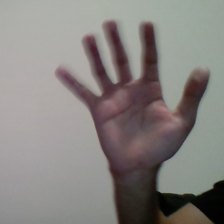left: (53, 15, 214, 176)
